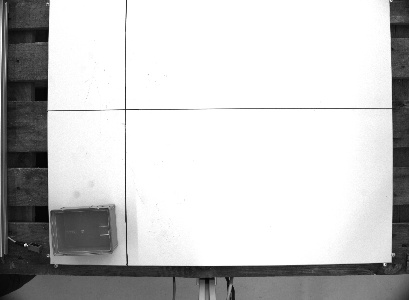klts: (48, 200, 119, 259)
